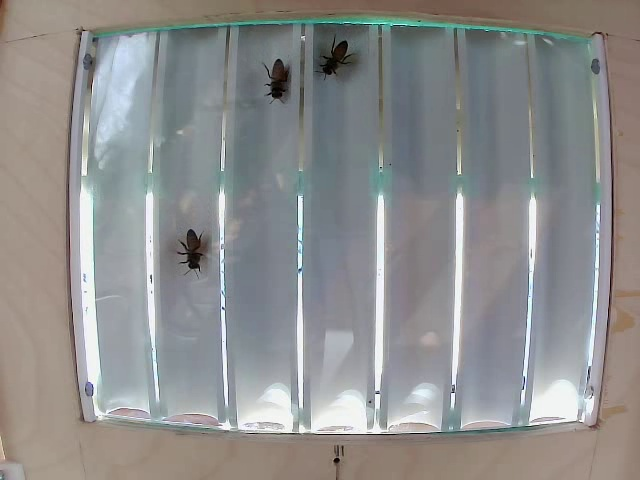bee: (169, 228, 219, 275), (254, 56, 293, 112), (317, 34, 351, 77)
